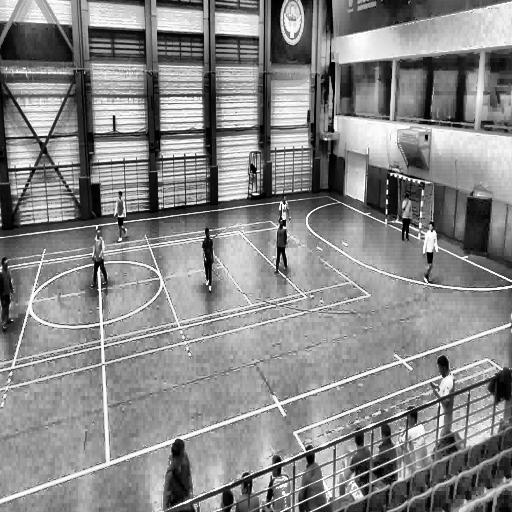player: (162, 437, 194, 512), (91, 226, 109, 288), (0, 257, 15, 330), (421, 221, 437, 282), (200, 226, 214, 292), (274, 216, 288, 273), (115, 191, 129, 243), (277, 191, 291, 240), (399, 191, 412, 243)
